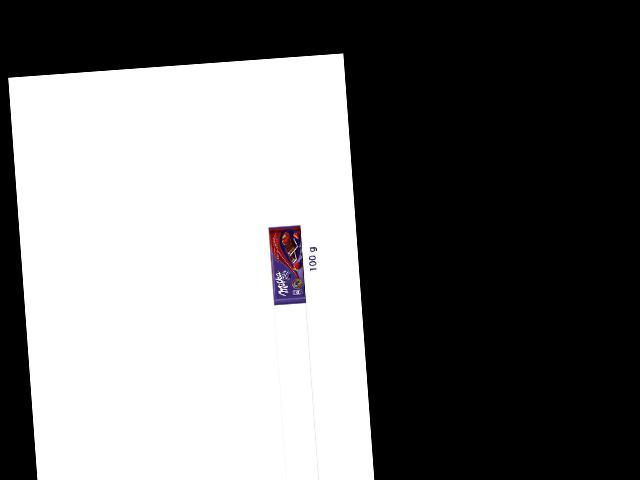chocolate: (268, 224, 310, 305)
